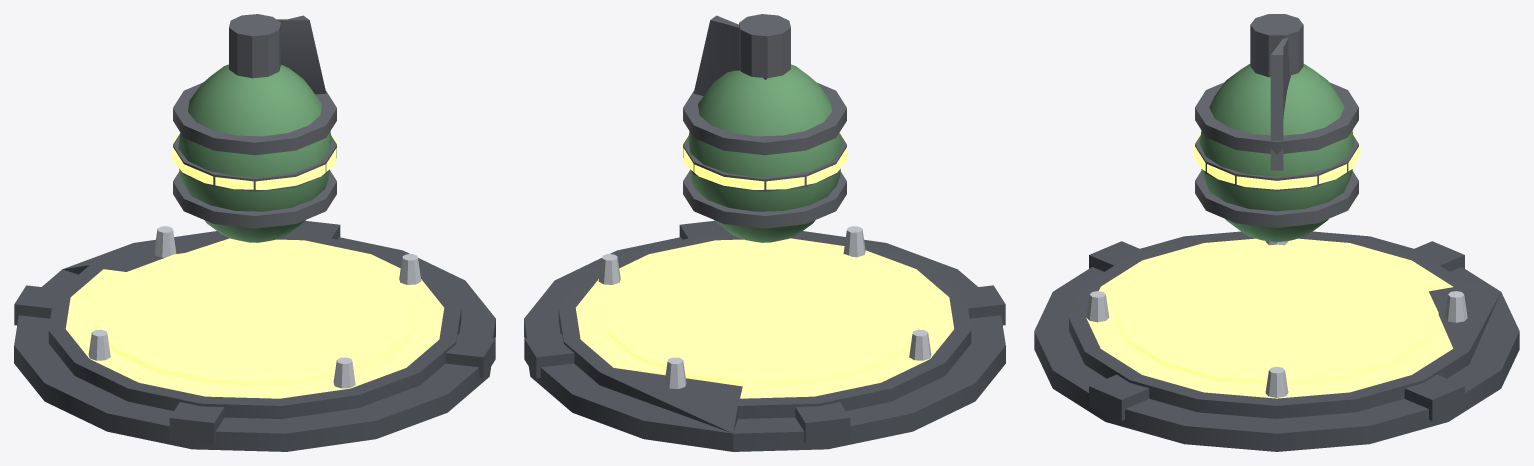
File: PowerUp_Grenade.fbx
3 renders of one model, left to right at view 1: azimuth 30°, elevation 25°; view 2: azimuth 150°, elevation 25°; view 3: azimuth 270°, elevation 25°, orthographic.
Parts seen in each view (by area): view 1: Grenade_Pedestal_GlowRing, Grenade_Pedestal_Chassis, Grenade_Body.001, Grenade_ArmorPlates, Grenade_FuzeMechanism, Grenade_Pedestal_Pylons, Grenade_HazardGlow; view 2: Grenade_Pedestal_GlowRing, Grenade_Pedestal_Chassis, Grenade_Body.001, Grenade_ArmorPlates, Grenade_FuzeMechanism, Grenade_Pedestal_Pylons, Grenade_HazardGlow; view 3: Grenade_Pedestal_GlowRing, Grenade_Pedestal_Chassis, Grenade_Body.001, Grenade_ArmorPlates, Grenade_FuzeMechanism, Grenade_Pedestal_Pylons, Grenade_HazardGlow.
Part boxes in pixels (x1=…): Grenade_Pedestal_GlowRing: x1=65, y1=238, x2=444, y2=398; Grenade_Pedestal_Chassis: x1=14, y1=220, x2=495, y2=451; Grenade_Body.001: x1=178, y1=64, x2=331, y2=242; Grenade_ArmorPlates: x1=173, y1=82, x2=336, y2=228; Grenade_FuzeMechanism: x1=229, y1=14, x2=326, y2=94; Grenade_Pedestal_Pylons: x1=88, y1=226, x2=421, y2=388; Grenade_HazardGlow: x1=172, y1=133, x2=337, y2=189; Grenade_Pedestal_GlowRing: x1=575, y1=238, x2=954, y2=398; Grenade_Pedestal_Chassis: x1=524, y1=220, x2=1005, y2=451; Grenade_Body.001: x1=688, y1=64, x2=841, y2=242; Grenade_ArmorPlates: x1=683, y1=82, x2=846, y2=228; Grenade_FuzeMechanism: x1=693, y1=14, x2=790, y2=95; Grenade_Pedestal_Pylons: x1=598, y1=226, x2=931, y2=388; Grenade_HazardGlow: x1=682, y1=133, x2=847, y2=189; Grenade_Pedestal_GlowRing: x1=1086, y1=238, x2=1453, y2=398; Grenade_Pedestal_Chassis: x1=1034, y1=231, x2=1519, y2=451; Grenade_Body.001: x1=1199, y1=64, x2=1354, y2=242; Grenade_ArmorPlates: x1=1195, y1=82, x2=1358, y2=227; Grenade_FuzeMechanism: x1=1250, y1=14, x2=1303, y2=170; Grenade_Pedestal_Pylons: x1=1086, y1=241, x2=1467, y2=397; Grenade_HazardGlow: x1=1193, y1=132, x2=1360, y2=189.
Bounding box in the file's own units: 0.84 × 0.62 × 0.84.
